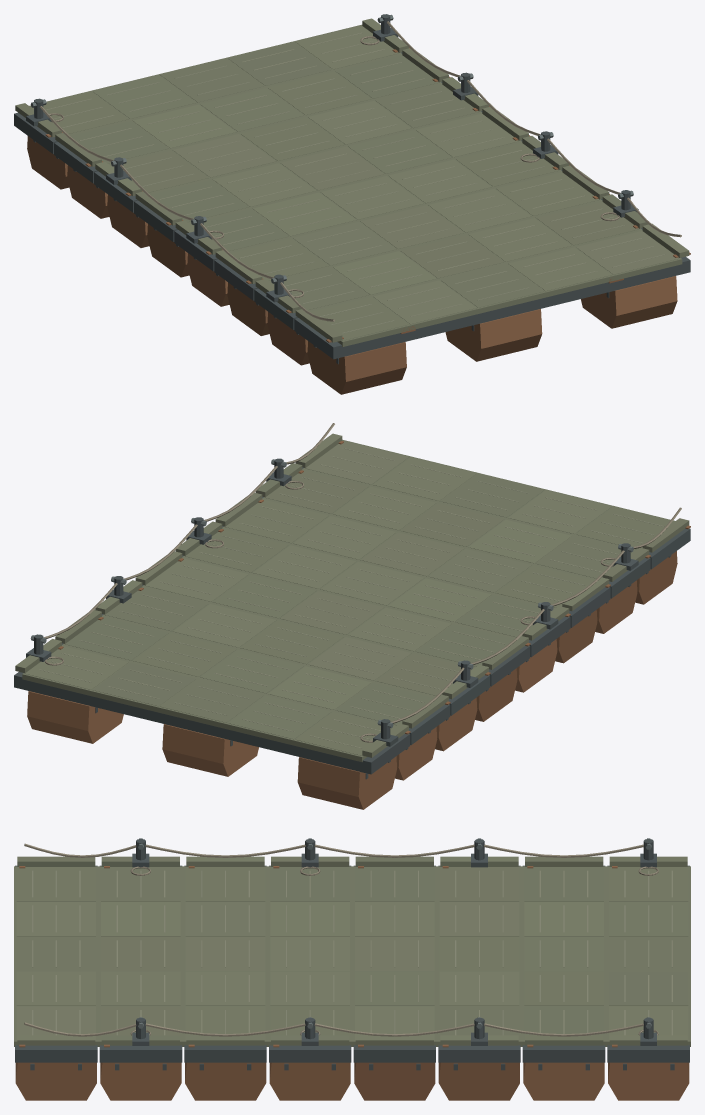
Rendered from bridge_pontoon.glb.
3 renders of one model, top to bottom at view 1: azimuth 30°, elevation 25°; view 2: azimuth 150°, elevation 25°; view 3: azimuth 270°, elevation 25°, orthographic. The views are drawn at different scales.
Visible parts, largest first — view 1: bridge_pontoon; view 2: bridge_pontoon; view 3: bridge_pontoon.
Part boxes in pixels (box(x1,y1,x2,y2)): bridge_pontoon: box(14, 14, 690, 394); bridge_pontoon: box(14, 423, 690, 809); bridge_pontoon: box(14, 838, 690, 1100).
Bounding box in the file's own units: 10.5 × 2.21 × 16.
